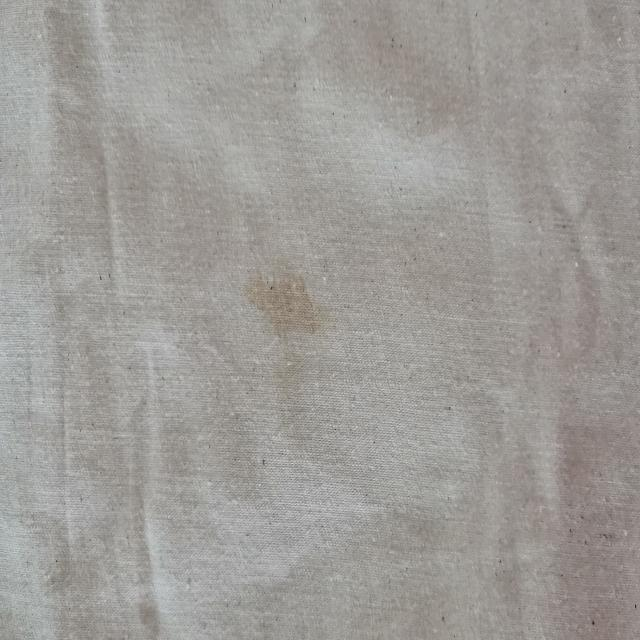taaaches: (242, 255, 330, 354)
